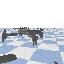drone: (1, 27, 44, 46)
